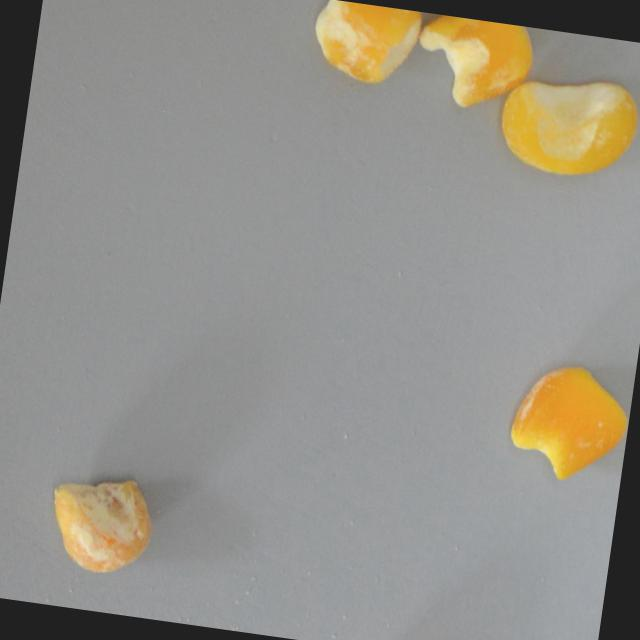dañado: (39, 465, 163, 584)
no_desgerminado: (493, 66, 640, 186)
pelicula: (502, 354, 636, 492), (410, 11, 537, 118), (303, 0, 422, 93)
